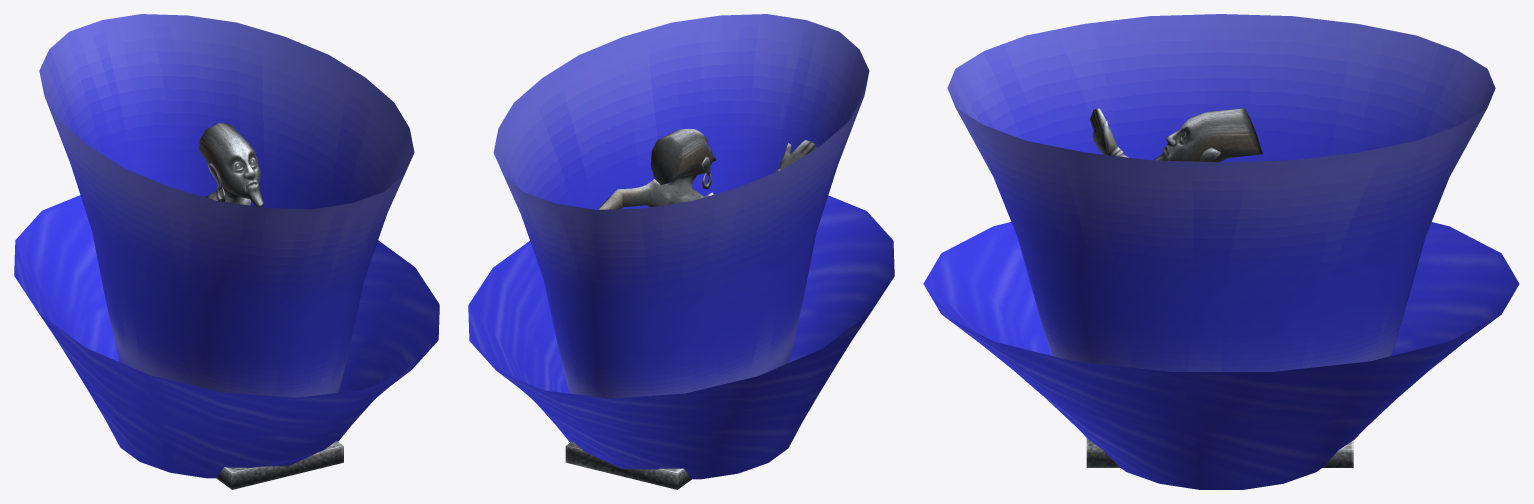
File: Iron Idol.fbx
3 views of the same model, side by side, from view 1: azimuth 30°, elevation 25°; view 2: azimuth 150°, elevation 25°; view 3: azimuth 270°, elevation 25° (orthographic). The views are drawn at different scales.
Visible parts, largest first — view 1: Top Effect, Bottom Effect, Body; view 2: Top Effect, Bottom Effect, Body; view 3: Top Effect, Bottom Effect, Body.
Part boxes in pixels (x1,y1,x2,y2): Top Effect: (39, 14, 414, 465); Bottom Effect: (14, 195, 439, 478); Body: (199, 123, 343, 489); Top Effect: (493, 14, 869, 465); Bottom Effect: (468, 195, 894, 479); Body: (565, 128, 816, 489); Top Effect: (947, 14, 1495, 371); Bottom Effect: (923, 222, 1519, 489); Body: (1086, 108, 1353, 467).
Bounding box in the file's own units: 1648 × 1532 × 2357.
